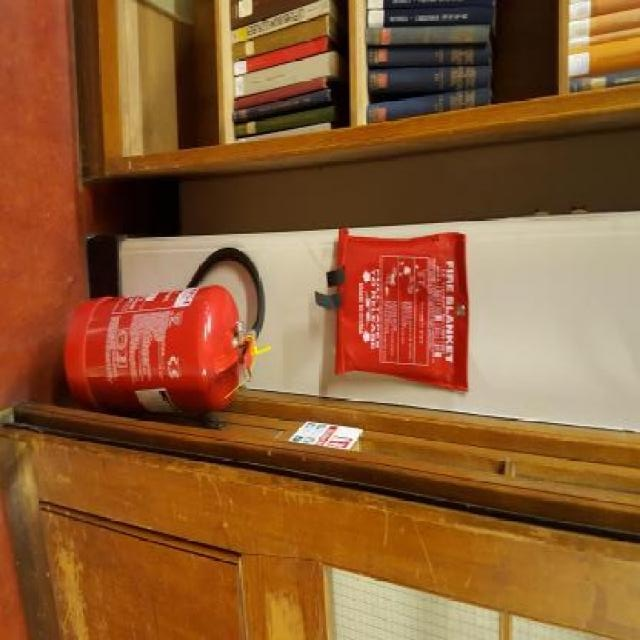fire extinguisher: (62, 246, 266, 422)
